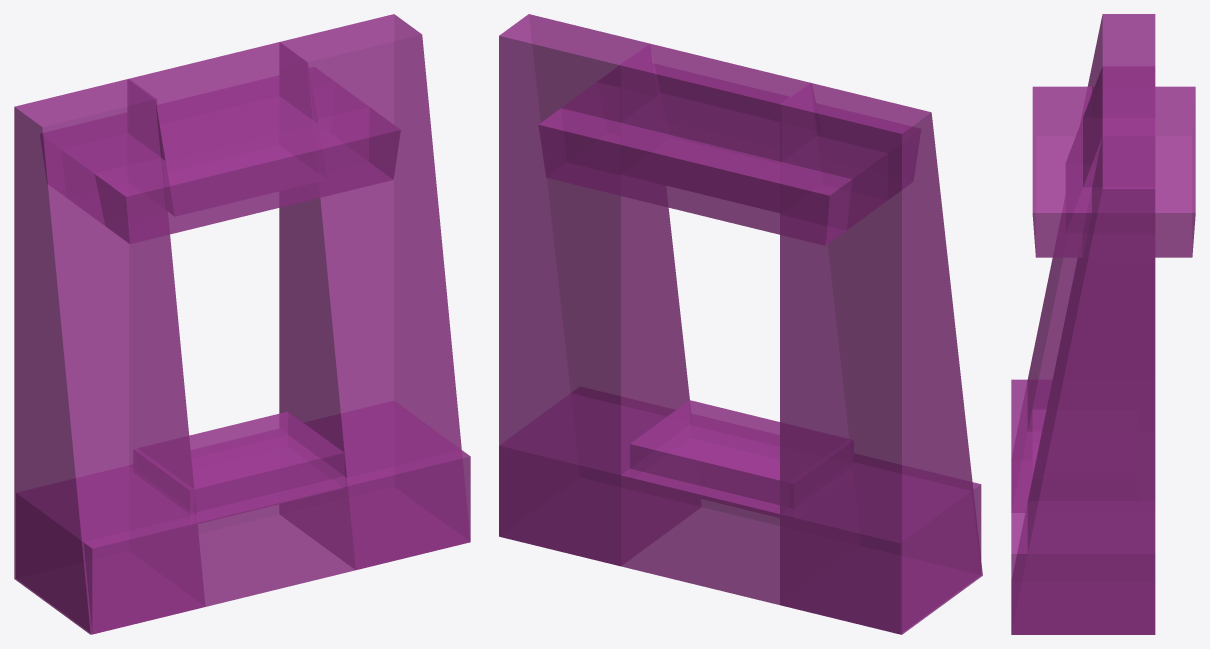
Rendered from SM_Bld_Wall_Fort_Top_Window_02_Collision.fbx.
3 renders of one model, left to right at view 1: azimuth 30°, elevation 25°; view 2: azimuth 150°, elevation 25°; view 3: azimuth 270°, elevation 25°, orthographic. The views are drawn at different scales.
Parts seen in each view (by area): view 1: SM_Bld_Wall_Fort_Top_Window_02_Collision; view 2: SM_Bld_Wall_Fort_Top_Window_02_Collision; view 3: SM_Bld_Wall_Fort_Top_Window_02_Collision.
Part boxes in pixels (bbox=[...]): SM_Bld_Wall_Fort_Top_Window_02_Collision: bbox=[14, 14, 470, 634]; SM_Bld_Wall_Fort_Top_Window_02_Collision: bbox=[499, 14, 982, 634]; SM_Bld_Wall_Fort_Top_Window_02_Collision: bbox=[1011, 14, 1195, 634].
Size of the model in its own units: 508 by 603 by 226.
